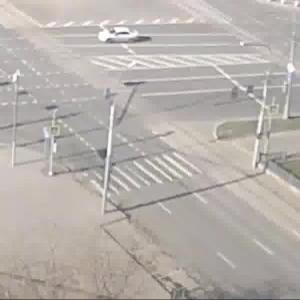car: (99, 25, 143, 48)
